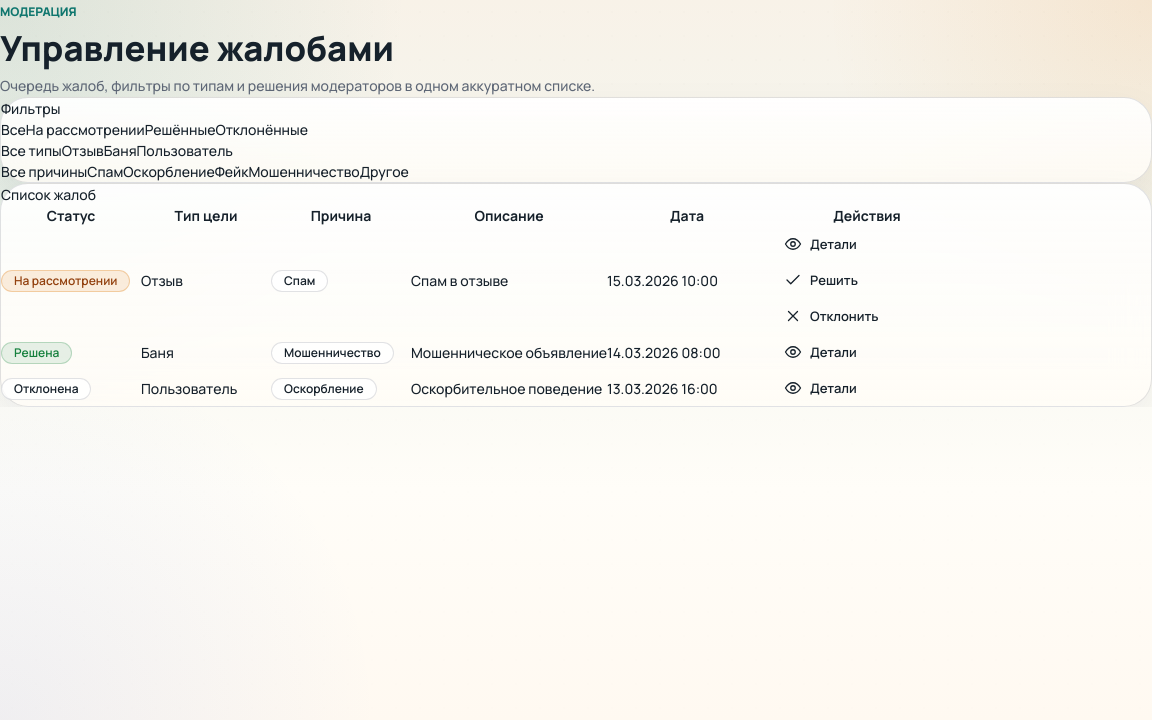
Test: ComplaintManagement › opens resolve modal with note input
The image size is (1152, 720).
Click the button "Решить". click: click(821, 280)
box: [767,262,875,298]
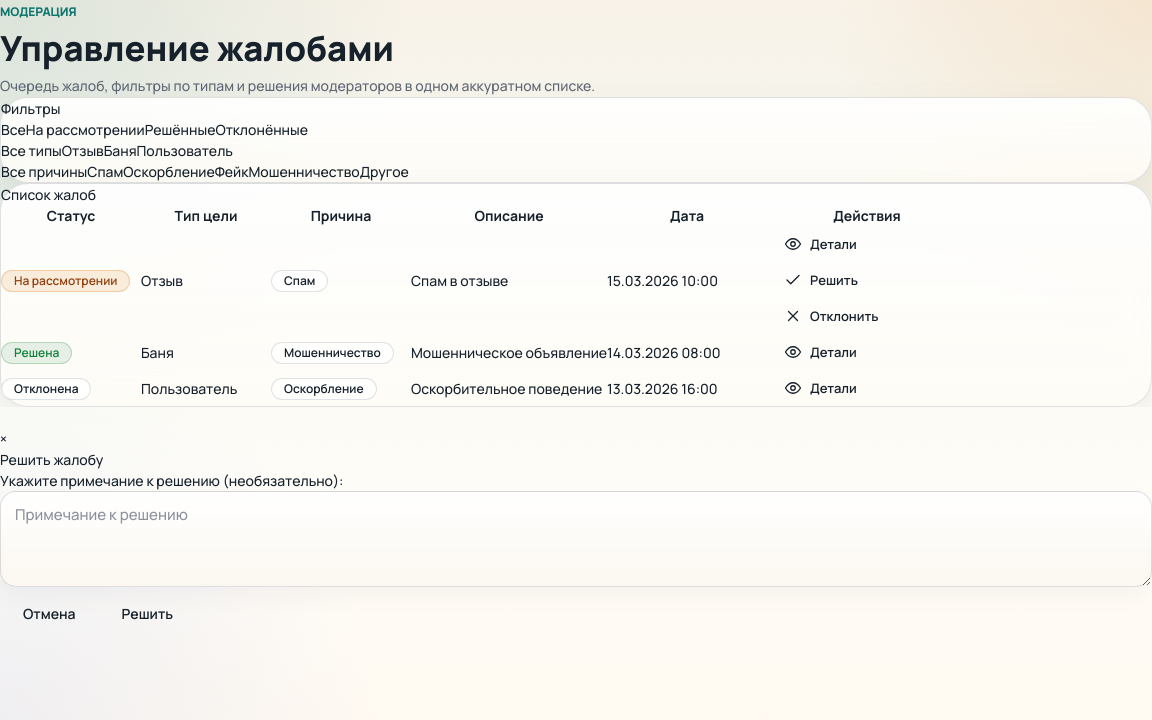
Result: the text "Решить жалобу" is shown at [0,450,103,469]
Result: the text box with placeholder "Примечание к решению" is shown at [0,491,1151,587]
